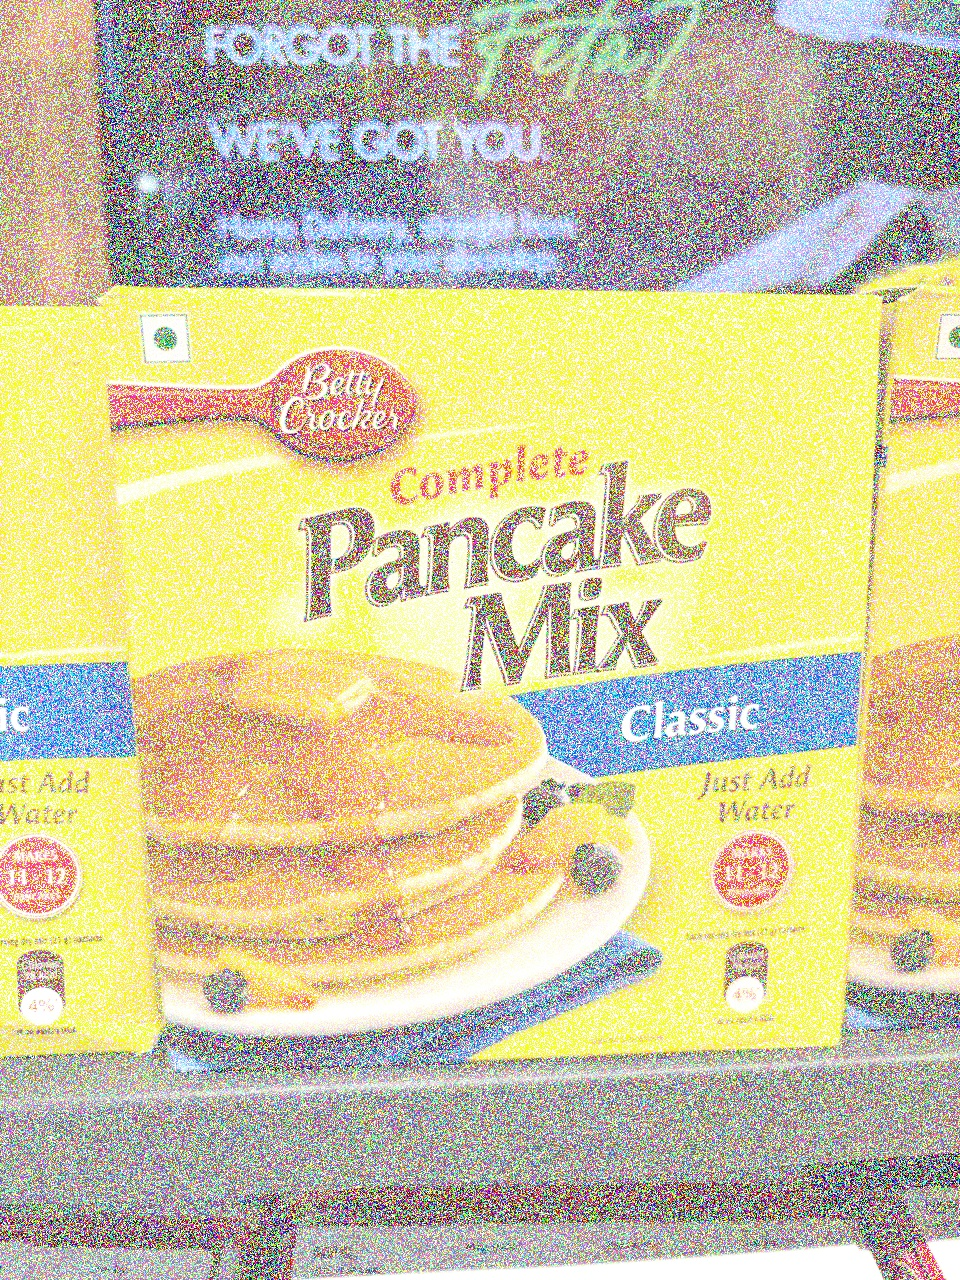Betty Crocker Pancake Mix: (95, 275, 852, 1057)
